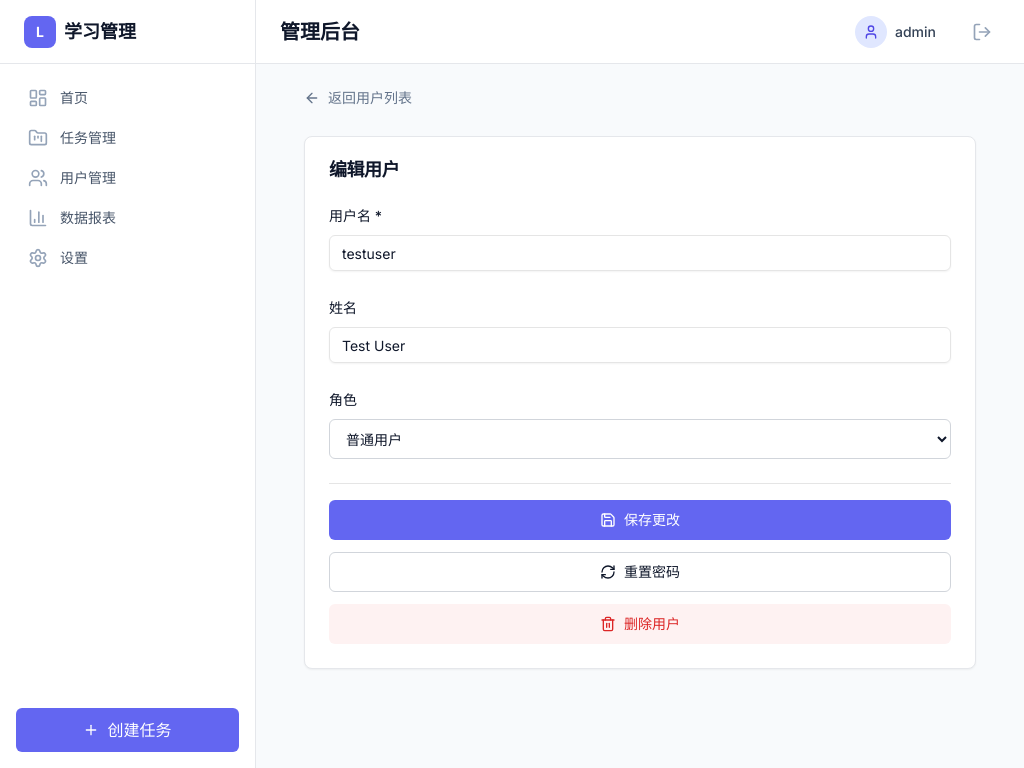
Test case: UserEditorPage › shows error message on save failure
This screenshot has width=1024, height=768.
Expected: the field showing "testuser" is shown, [329, 235, 951, 271]
Click the button "保存更改": point(640, 520) [329, 500, 951, 540]
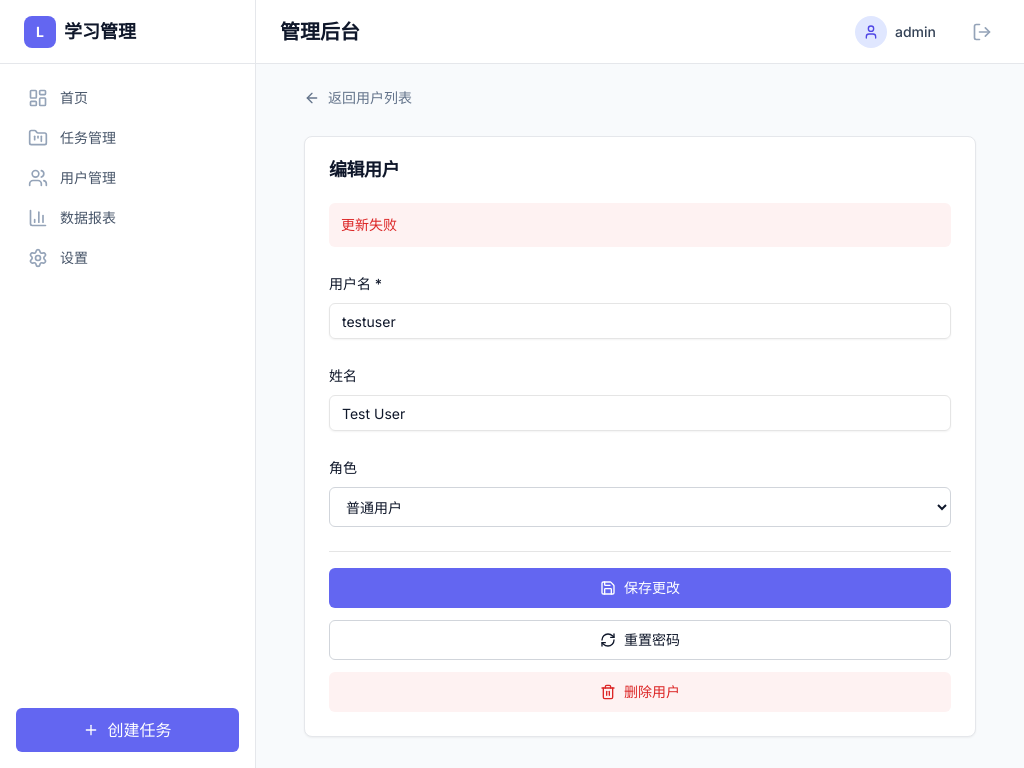
Expected: the text "更新失败" is shown, [329, 203, 951, 247]
